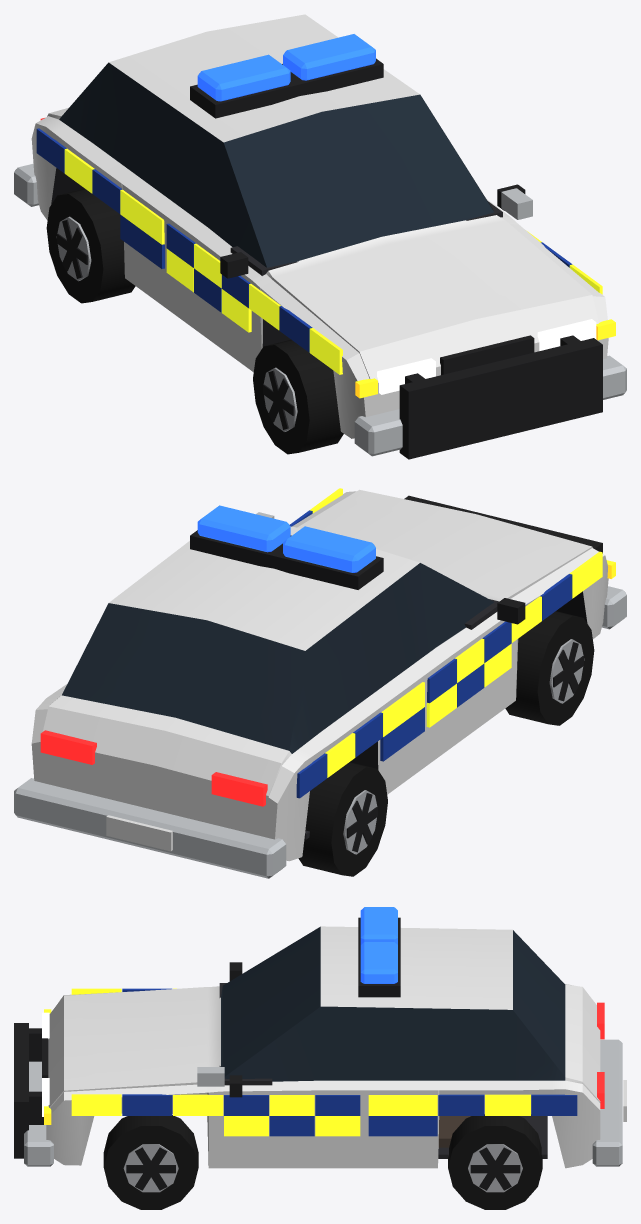
File: police.glb
The picture shows the model from 3 angles, top to bottom: view 1: azimuth 30°, elevation 25°; view 2: azimuth 150°, elevation 25°; view 3: azimuth 270°, elevation 25°; orthographic projection. The views are drawn at different scales.
Visible parts, largest first — view 1: police_body, police_door_r, police_door_br, police_wheel_fr, police_wheel_rr; view 2: police_body, police_door_r, police_door_br, police_wheel_rr, police_wheel_fr; view 3: police_body, police_door_l, police_door_bl, police_wheel_fl, police_wheel_rl.
Boxes of the visible parts, box(x1,y1,x2,y2) form: police_body: box(14, 14, 626, 459); police_door_r: box(166, 126, 266, 371); police_door_br: box(120, 94, 194, 308); police_wheel_fr: box(253, 339, 343, 454); police_wheel_rr: box(46, 189, 135, 303); police_body: box(14, 488, 626, 878); police_door_r: box(396, 563, 525, 766); police_door_br: box(350, 585, 424, 794); police_wheel_rr: box(298, 762, 387, 876); police_wheel_fr: box(505, 611, 594, 725); police_body: box(14, 907, 626, 1168); police_door_l: box(223, 1006, 360, 1168); police_door_bl: box(368, 1007, 437, 1168); police_wheel_fl: box(103, 1115, 198, 1209); police_wheel_rl: box(448, 1114, 542, 1209).
Size of the model in its own units: 2.3 by 1.89 by 4.92.
